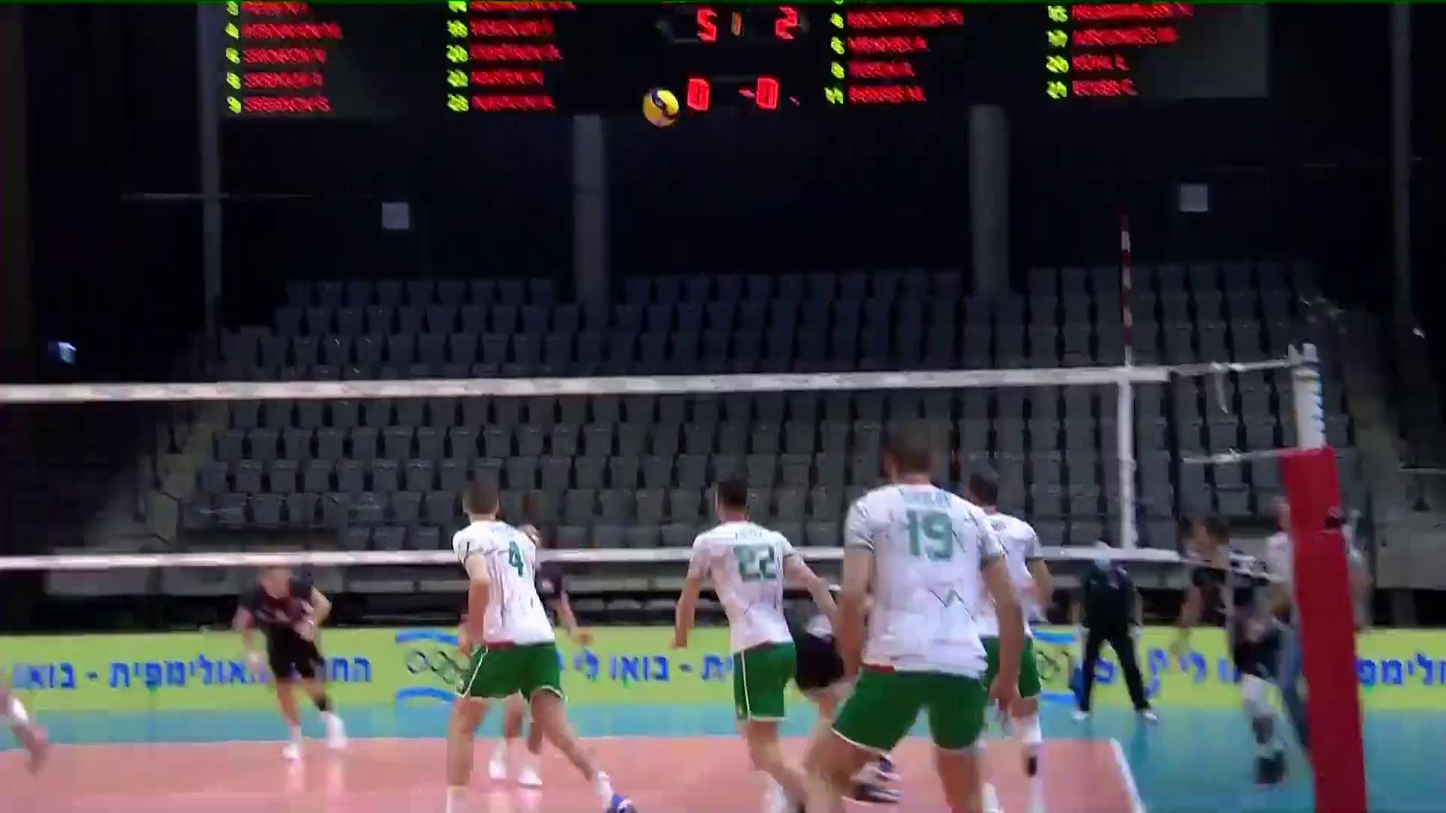ball: (638, 87, 681, 128)
